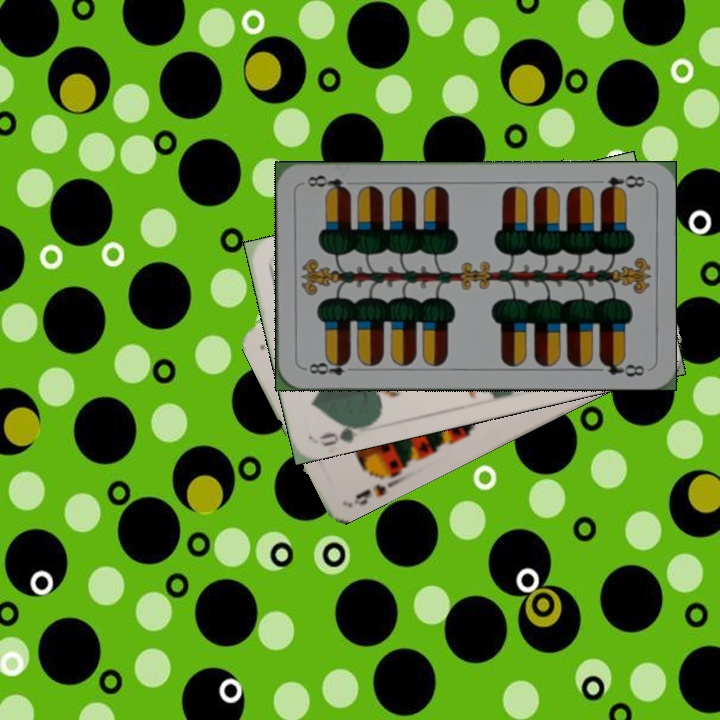E8: (300, 355, 359, 378), (596, 171, 647, 196)
GO: (315, 418, 373, 450)
S9: (349, 467, 403, 508)
